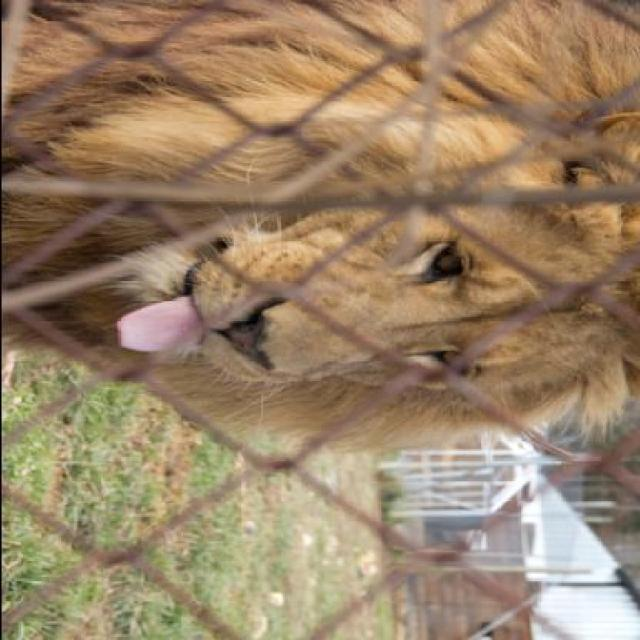Lion: (2, 2, 636, 466)
